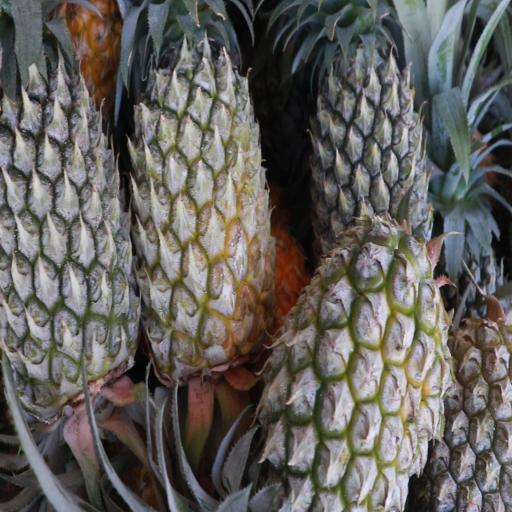------------------------------: (279, 234, 459, 508), (132, 7, 268, 362)
